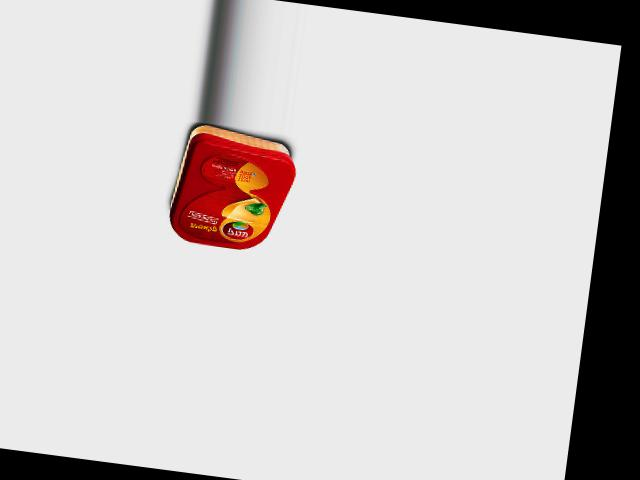cheese: (166, 121, 300, 255)
